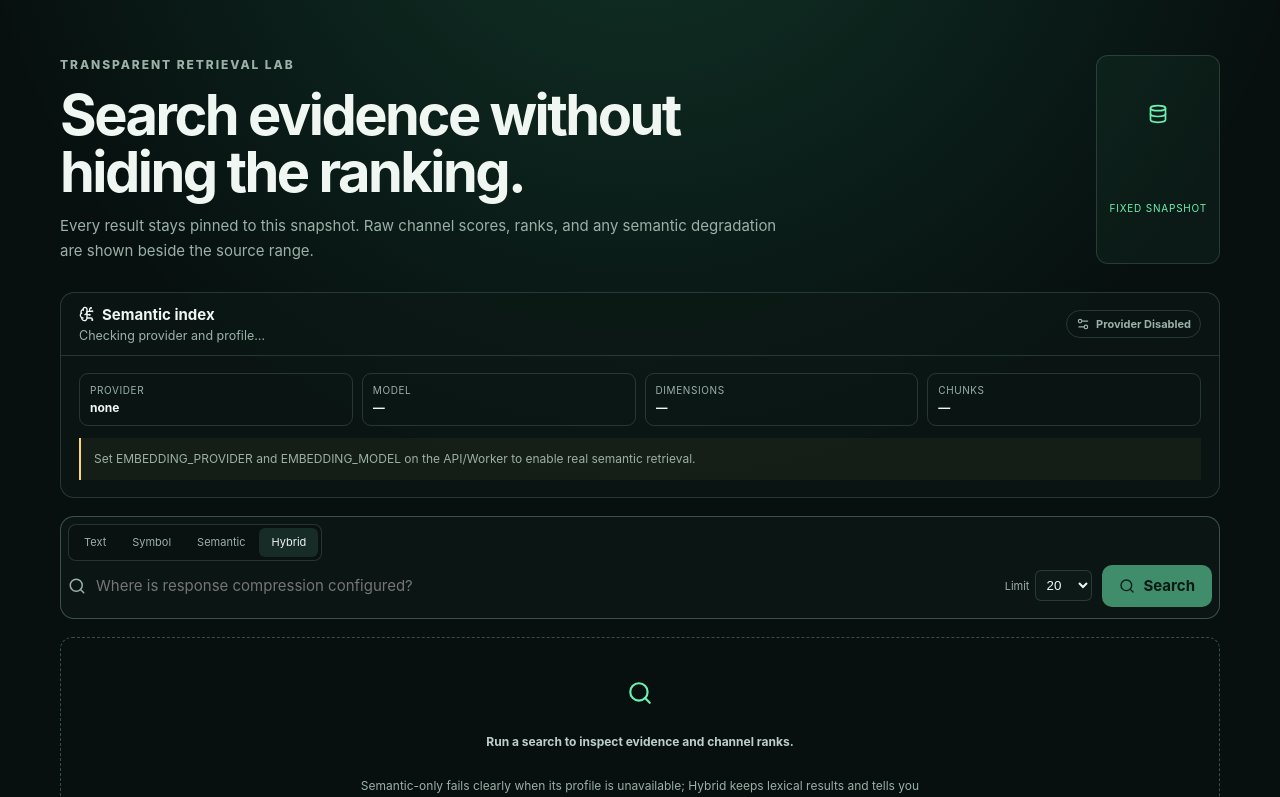
Test case: RetrievalLab › prevents an older search response from replacing a newer query
Expected: the text "provider disabled" is shown, left=1066, top=310, right=1201, bottom=338
Type "first query" into the field named "Search query" at (545, 586), box left=96, top=566, right=995, bottom=605
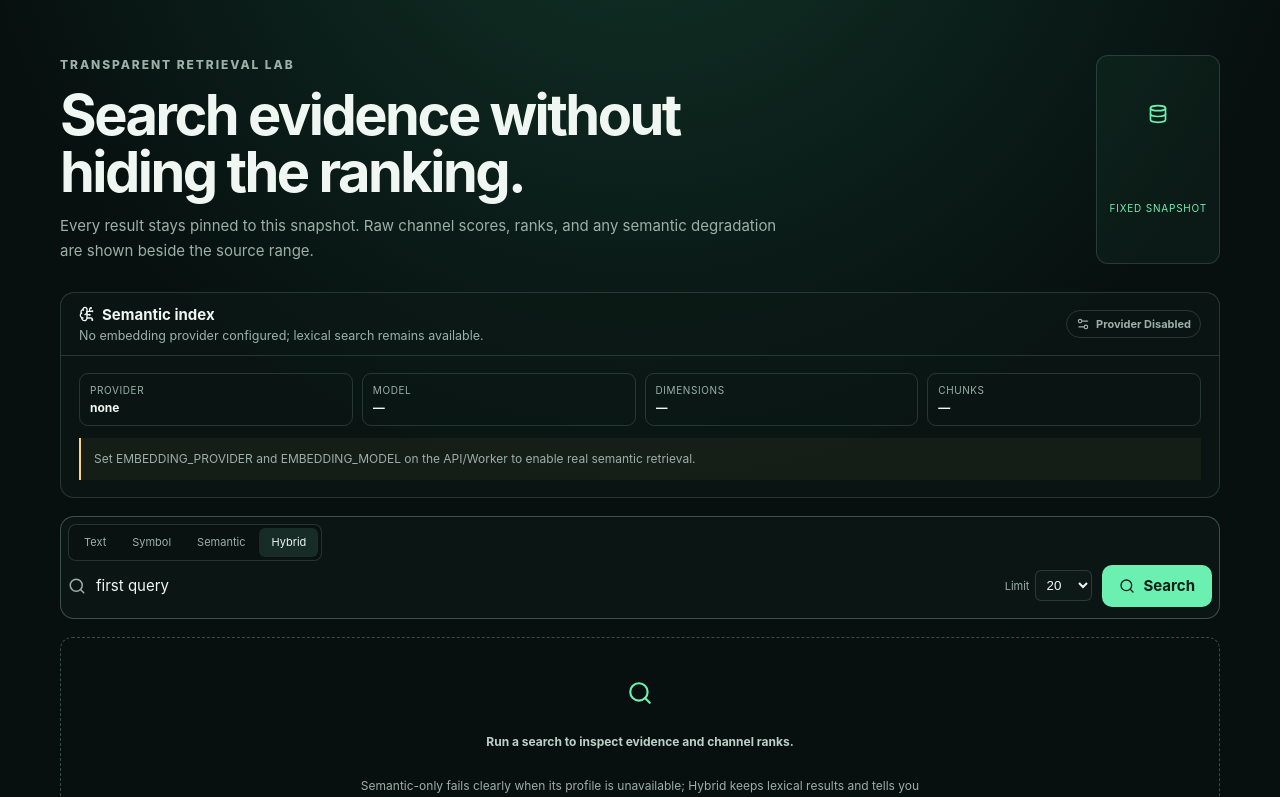
Submit the form named "Search query", box left=60, top=516, right=1220, bottom=619
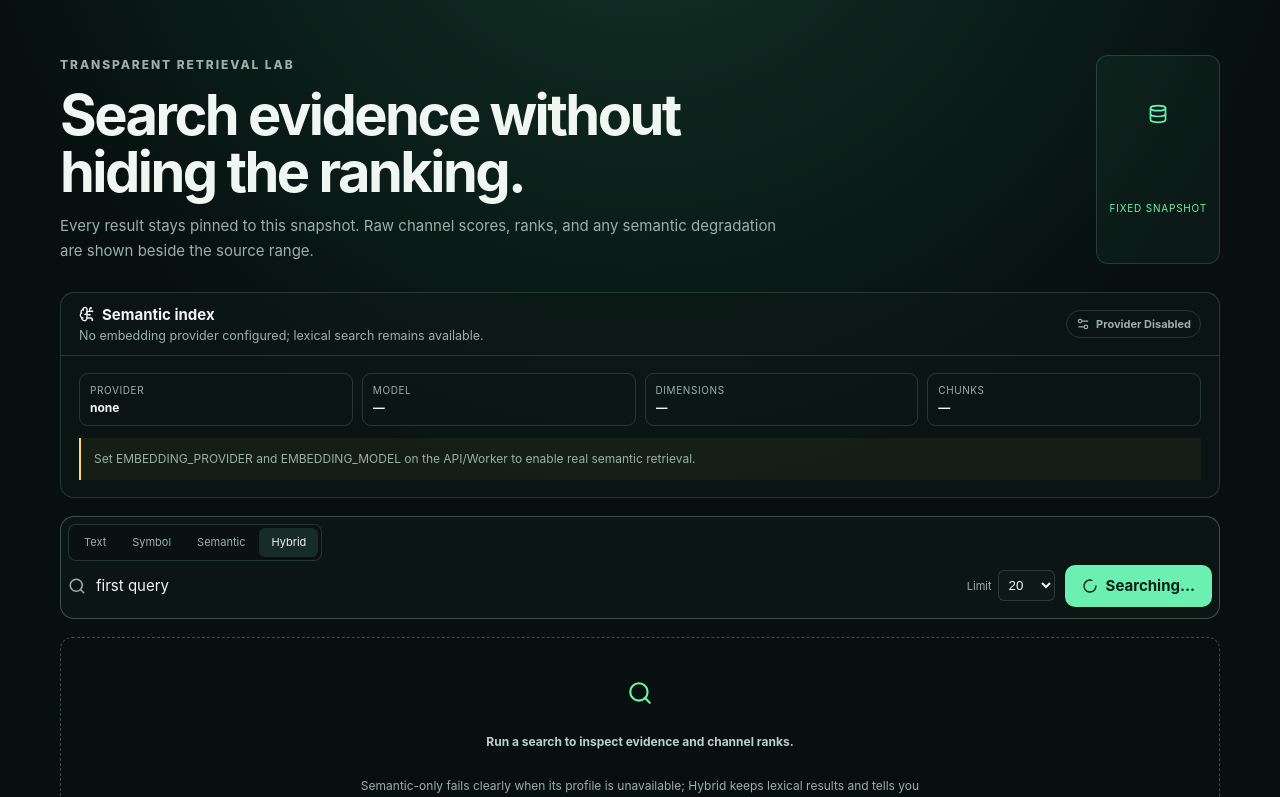
Replace the text in the field named "Search query" with "second query" at (526, 586), box left=96, top=566, right=957, bottom=605
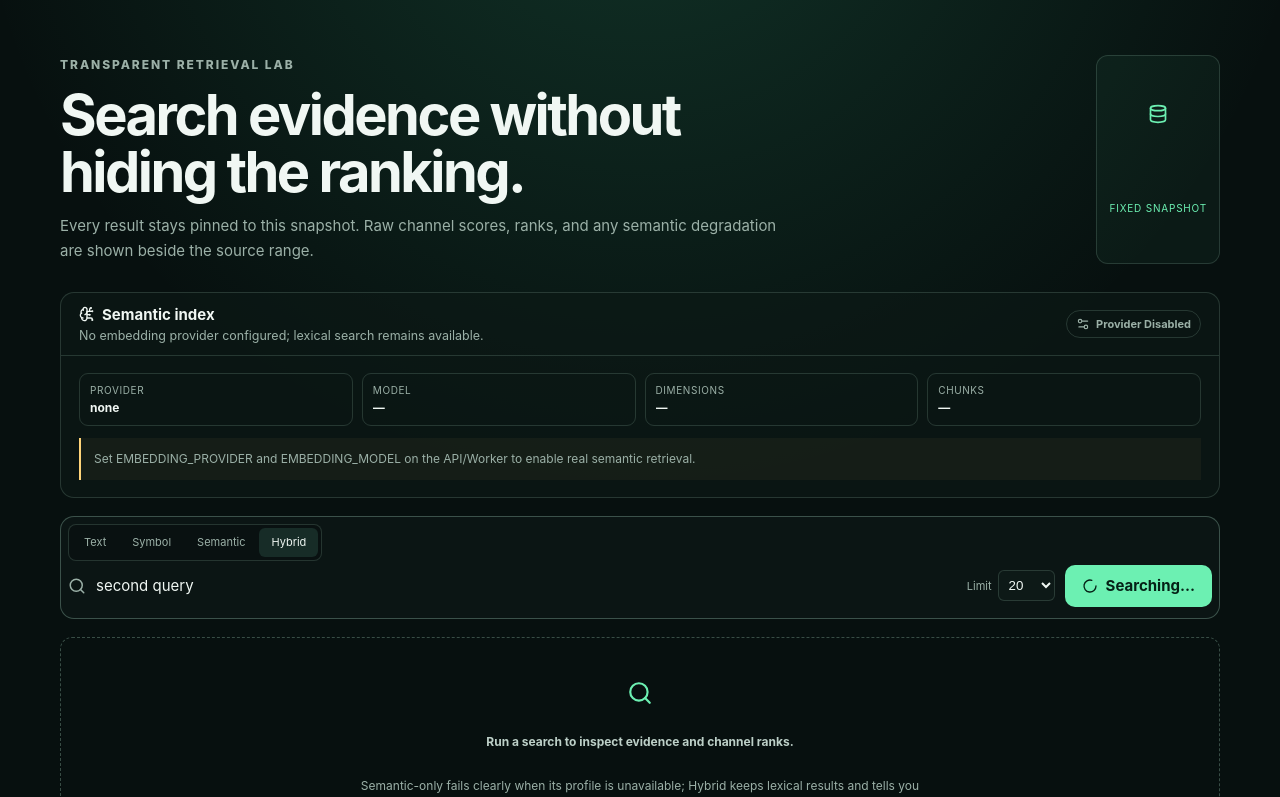
Submit the form named "Search query", box left=60, top=516, right=1220, bottom=619
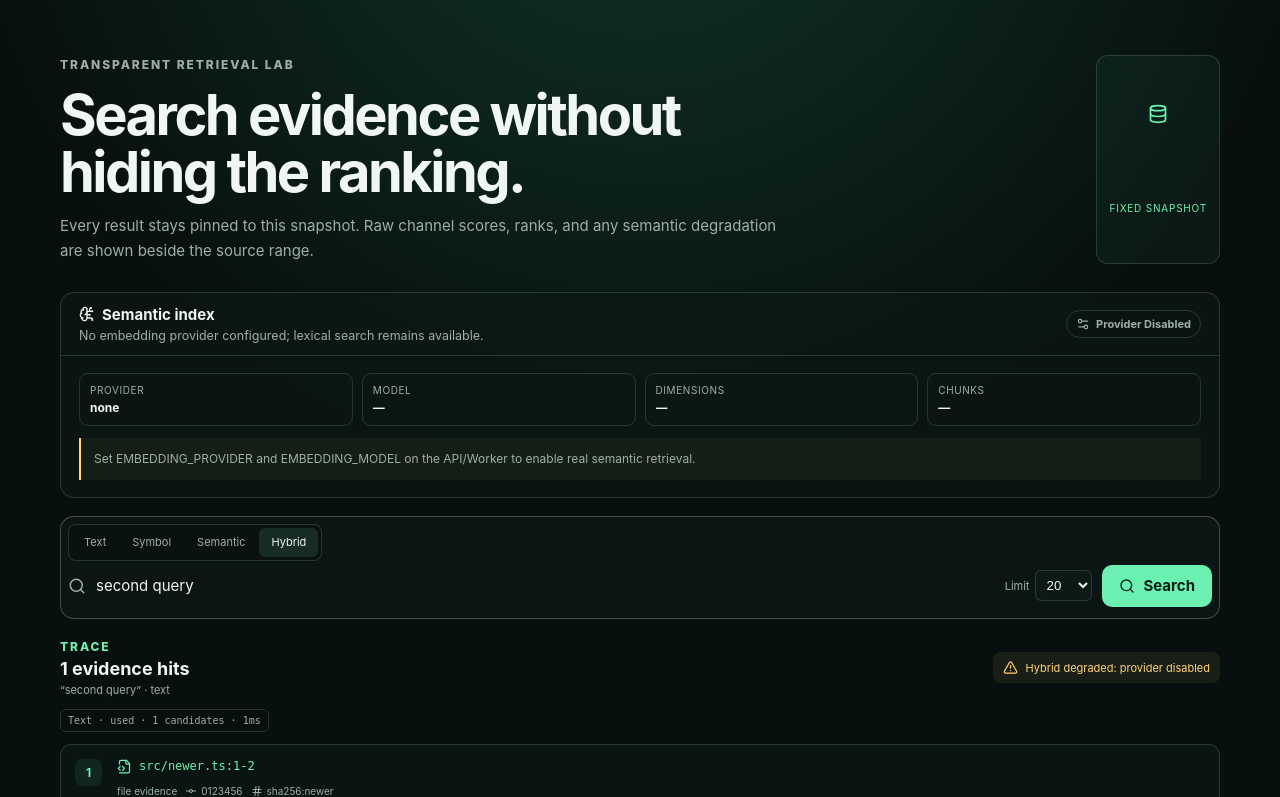
Now the button "src/newer.ts:1-2" is shown, box left=117, top=759, right=255, bottom=774
